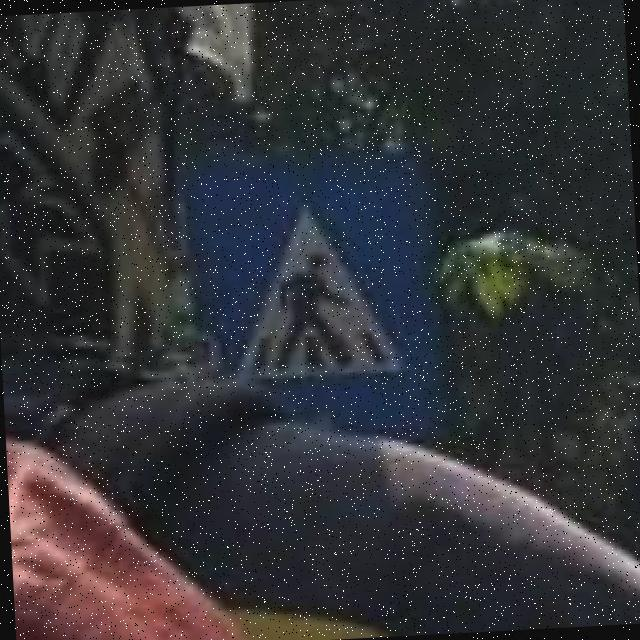Przejscie dla pieszych: (180, 146, 437, 390)
